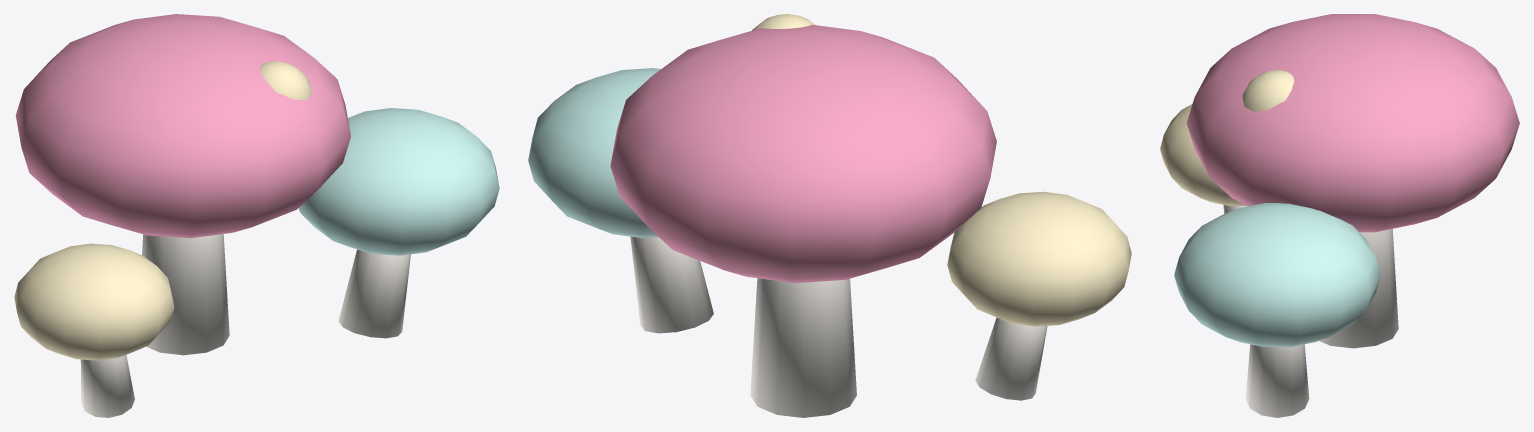
The model's file is GlowingMushroomCluster.fbx.
3 renders of one model, left to right at view 1: azimuth 30°, elevation 25°; view 2: azimuth 150°, elevation 25°; view 3: azimuth 270°, elevation 25°, orthographic. The views are drawn at different scales.
Visible parts, largest first — view 1: GlowingMushroomCluster; view 2: GlowingMushroomCluster; view 3: GlowingMushroomCluster.
Boxes of the visible parts, bbox=[...] form: GlowingMushroomCluster: bbox=[14, 14, 499, 417]; GlowingMushroomCluster: bbox=[528, 14, 1131, 417]; GlowingMushroomCluster: bbox=[1160, 14, 1519, 417].
Bounding box in the file's own units: 0.7154 × 0.4306 × 0.475.
